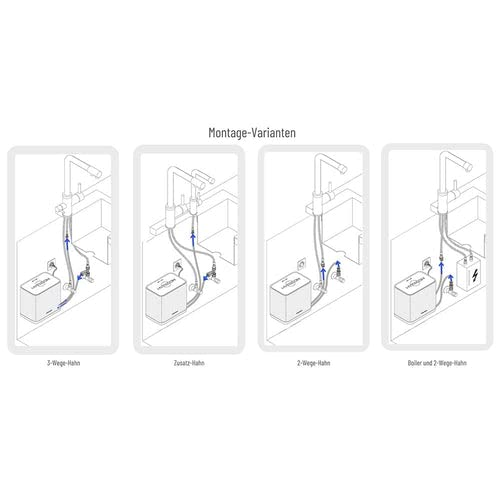Hontage-Varianten: (209, 127, 296, 140)
i: (439, 360, 467, 367)
